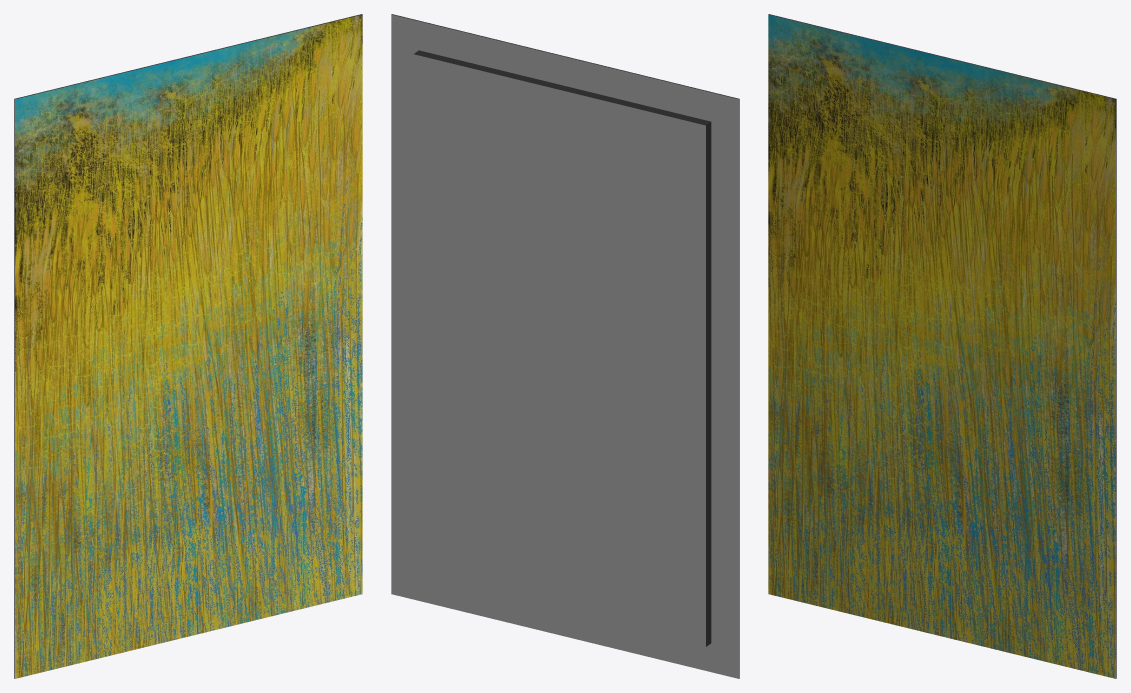
The model's file is os008_grand_dibond.glb.
The picture shows the model from 3 angles, left to right: view 1: azimuth 30°, elevation 25°; view 2: azimuth 150°, elevation 25°; view 3: azimuth 330°, elevation 25°; orthographic projection.
Parts seen in each view (by area): view 1: os008_grand_dibond; view 2: os008_grand_dibond; view 3: os008_grand_dibond.
Boxes of the visible parts, x1,y1,x2,y2 form: os008_grand_dibond: [14, 14, 362, 678]; os008_grand_dibond: [391, 14, 739, 678]; os008_grand_dibond: [768, 14, 1116, 678].
Size of the model in its own units: 0.7537 by 1.2 by 0.023.
Materials: 4 (1 with a texture image).
